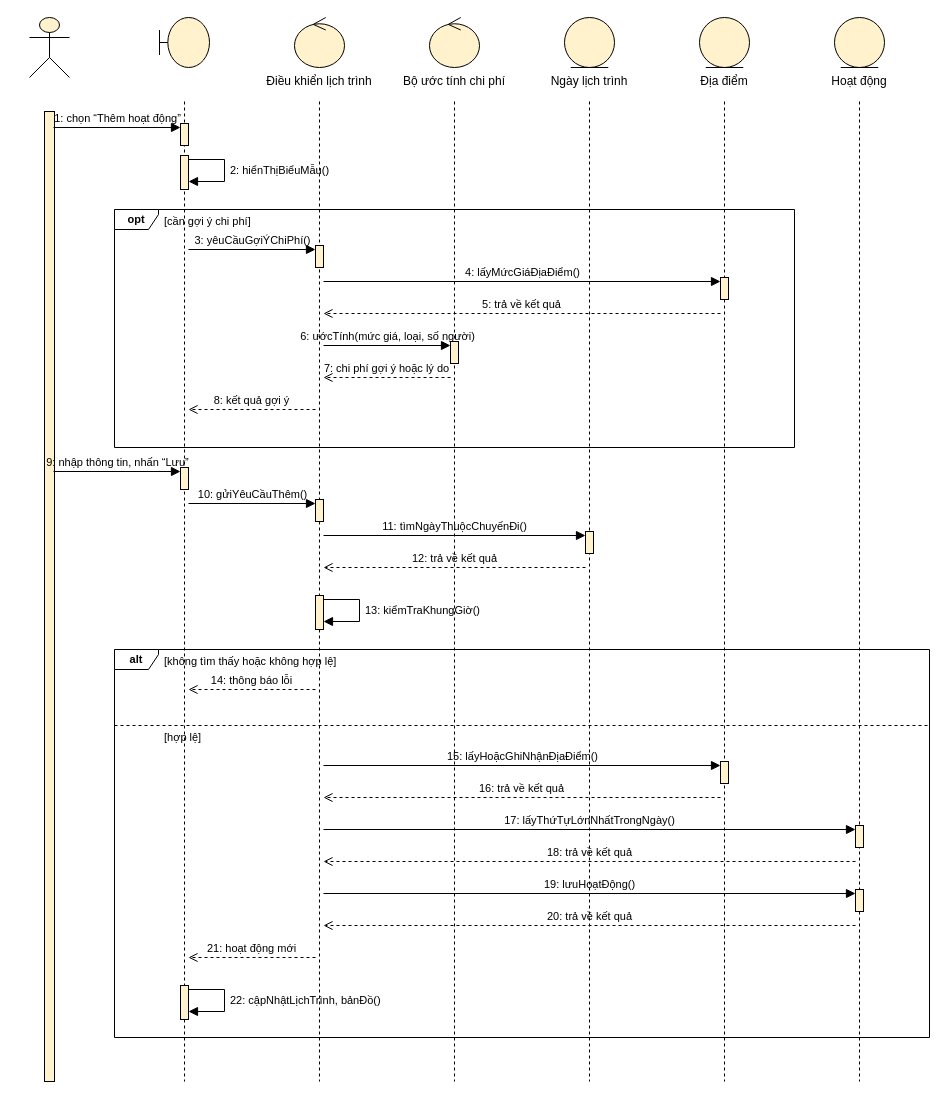
The diagram is 948 pixels wide and 1100 high, and some of its shapes have lost their labels. The centre of each missing label's shape, as x and y in pixels:
"Giao diện lịch trình" goes at (x=184, y=42).
"Người dùng" goes at (x=49, y=47).
